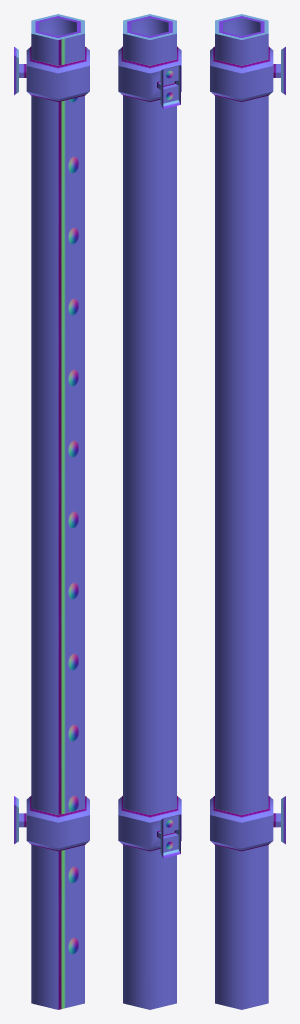
Rendered from sm_gutter_02.fbx.
3 renders of one model, left to right at view 1: azimuth 90°, elevation 25°; view 2: azimuth 210°, elevation 25°; view 3: azimuth 270°, elevation 25°, orthographic.
Parts seen in each view (by area): view 1: sm_gutter_02; view 2: sm_gutter_02; view 3: sm_gutter_02.
Part boxes in pixels (bbox=[...]): sm_gutter_02: bbox=[14, 14, 89, 1009]; sm_gutter_02: bbox=[118, 14, 181, 1009]; sm_gutter_02: bbox=[210, 14, 285, 1009].
Size of the model in its own units: 27.33 by 400 by 28.33.
Materials: 1 (1 with a texture image).
